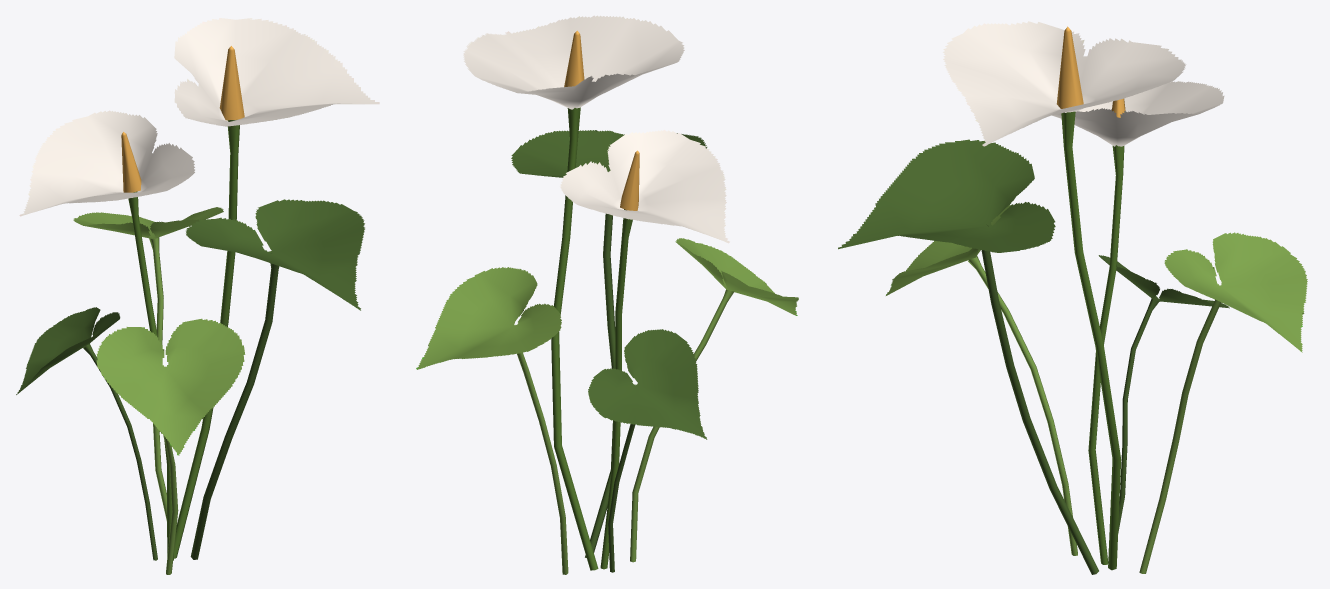
Rendered from Swamp_Calla_2.gltf.
The picture shows the model from 3 angles, left to right: view 1: azimuth 30°, elevation 25°; view 2: azimuth 150°, elevation 25°; view 3: azimuth 270°, elevation 25°; orthographic projection. The views are drawn at different scales.
Parts seen in each view (by area): view 1: Swamp_Calla_2; view 2: Swamp_Calla_2; view 3: Swamp_Calla_2.
Part boxes in pixels (x1,y1,x2,y2): Swamp_Calla_2: (16,18,379,574); Swamp_Calla_2: (416,15,798,574); Swamp_Calla_2: (838,21,1307,574).
Size of the model in its own units: 42.42 by 70.32 by 54.68.
Materials: 1 (1 with a texture image).
